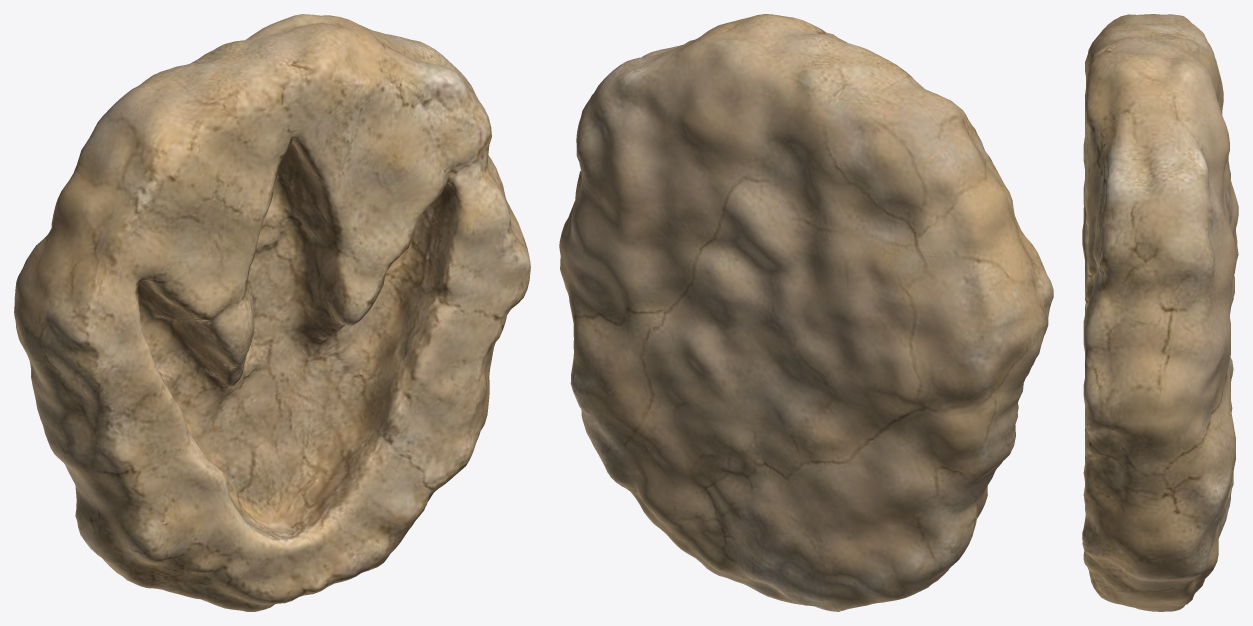
3 renders of one model, left to right at view 1: azimuth 30°, elevation 25°; view 2: azimuth 150°, elevation 25°; view 3: azimuth 270°, elevation 25°, orthographic. The views are drawn at different scales.
Size of the model in its own units: 1.7 by 1.91 by 0.4892.
Materials: 1 (1 with a texture image).
